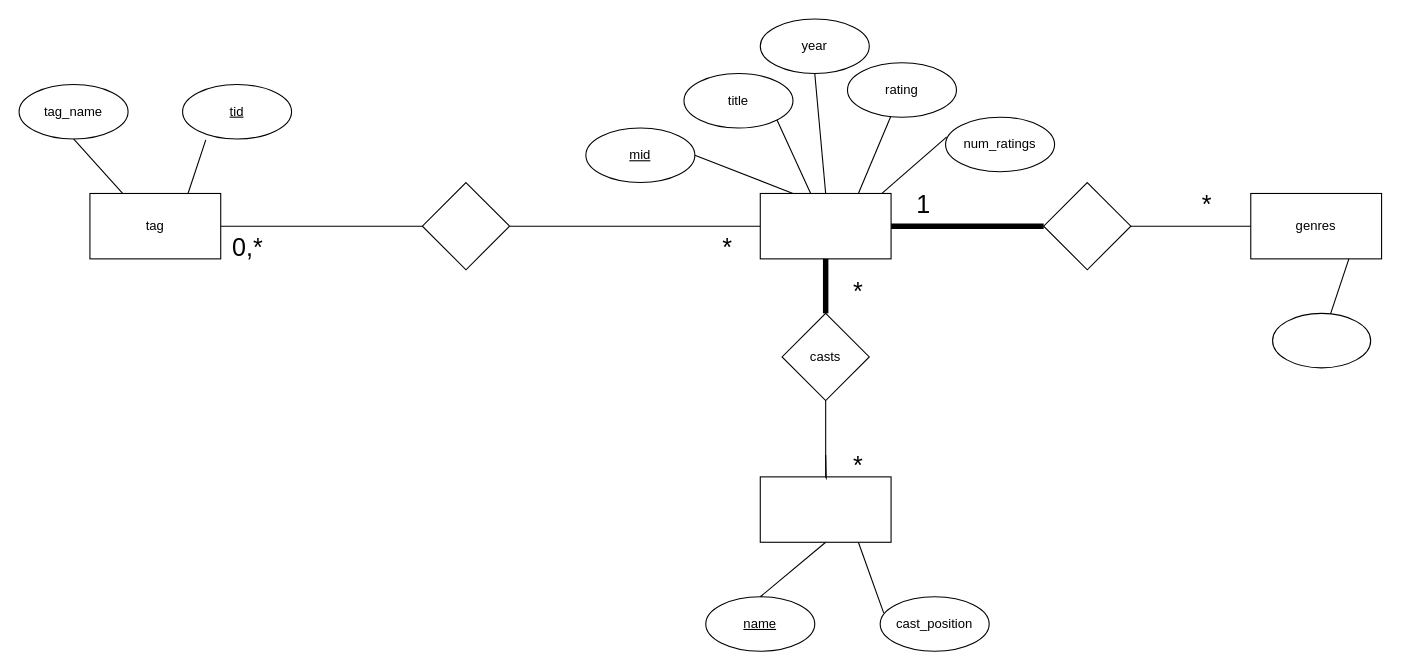
The diagram is 1401 pixels wide and 670 high, and some of its shapes have lost their labels. The shapes that lost their labels are listed below. From the top down, each one's centre as x and y in pixels, then its label:
At point (465, 225): "contains".
At point (825, 225): "movie".
At point (1087, 225): "classifies".
At point (1321, 340): "genre".
At point (825, 509): "actor".
